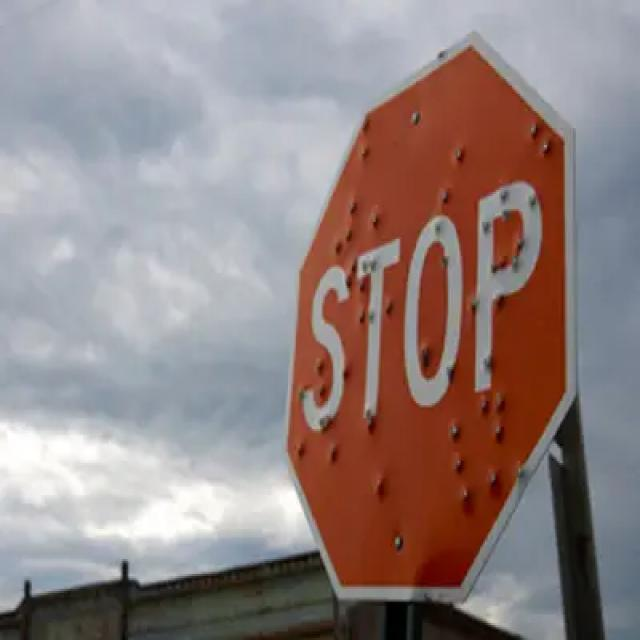Panneau-Stop: (272, 28, 576, 612)
